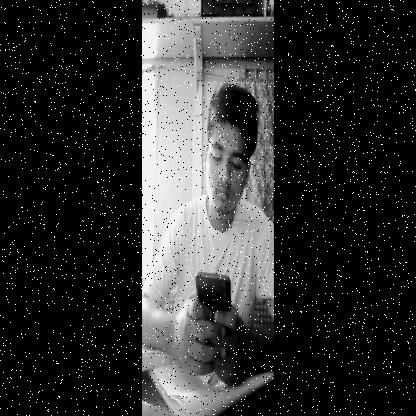Normal: (198, 82, 264, 219)
